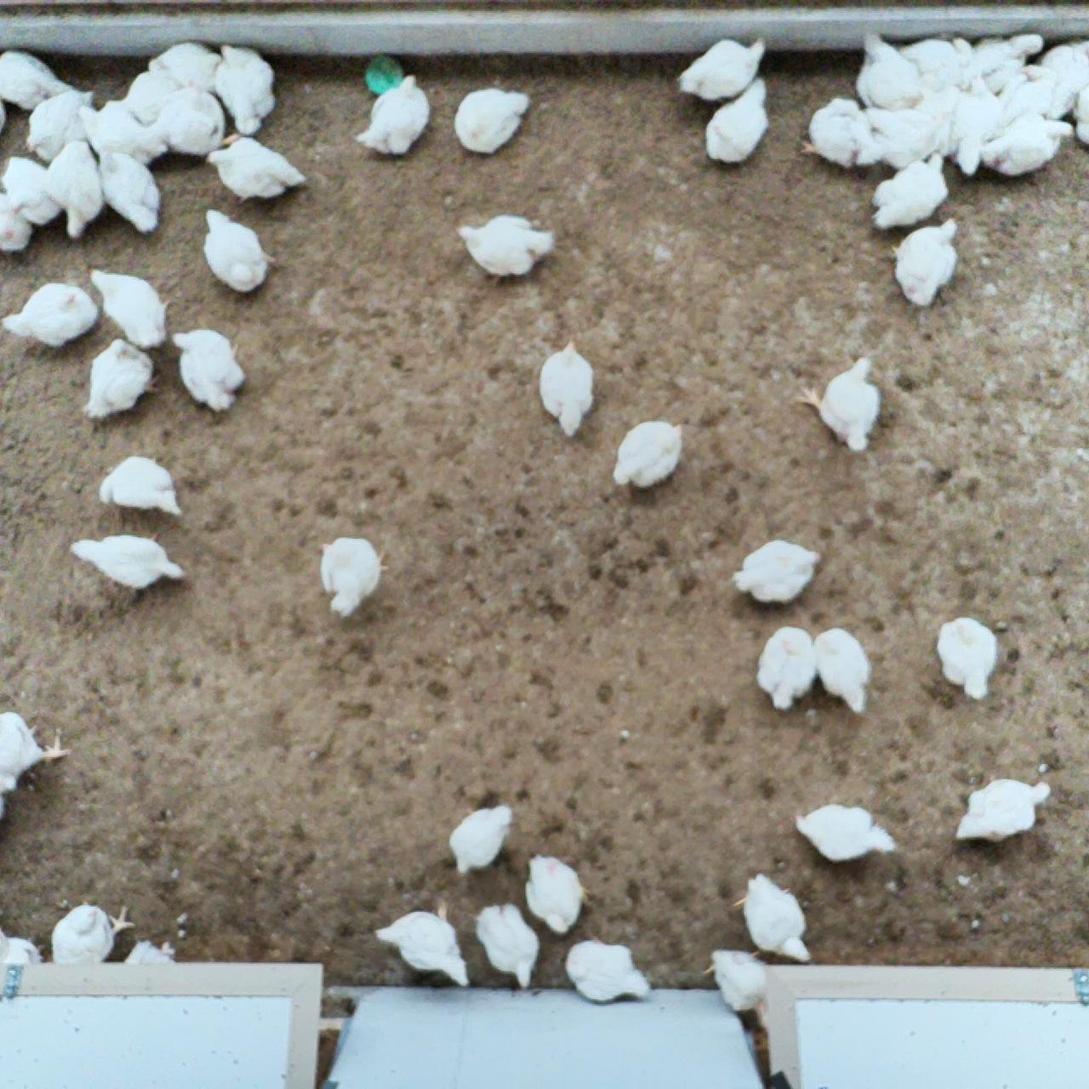chicken: (371, 894, 475, 992), (793, 352, 887, 456), (450, 205, 559, 282), (195, 200, 279, 298), (887, 212, 966, 315), (66, 527, 188, 593), (201, 134, 307, 208), (867, 147, 955, 236), (735, 869, 813, 968), (0, 276, 102, 351), (730, 533, 829, 610), (953, 774, 1056, 848), (86, 266, 173, 352), (316, 528, 397, 620), (792, 799, 900, 868), (167, 323, 247, 415), (77, 337, 163, 422), (352, 71, 433, 161), (77, 93, 169, 172), (979, 109, 1076, 183), (671, 36, 770, 107), (471, 897, 544, 992), (700, 73, 771, 170), (0, 708, 73, 802), (41, 138, 107, 241), (562, 937, 656, 1009), (860, 102, 954, 172), (796, 92, 877, 173), (213, 43, 281, 138), (452, 81, 535, 158), (522, 855, 599, 938), (49, 897, 136, 969), (22, 82, 96, 166), (96, 144, 164, 235), (931, 613, 1001, 701), (92, 451, 182, 519), (611, 415, 688, 493), (852, 32, 927, 111), (811, 620, 872, 717), (754, 623, 819, 713), (0, 43, 83, 113), (540, 336, 598, 436), (948, 68, 1001, 177), (155, 78, 224, 160), (971, 27, 1048, 97), (1000, 67, 1089, 127), (448, 800, 516, 878), (703, 942, 770, 1017), (112, 70, 193, 129), (139, 40, 226, 94), (909, 79, 965, 162), (0, 155, 64, 226), (1012, 37, 1089, 93), (917, 32, 983, 93), (0, 190, 37, 254), (122, 936, 180, 972), (0, 928, 46, 971), (895, 32, 958, 62), (1069, 78, 1089, 151)
